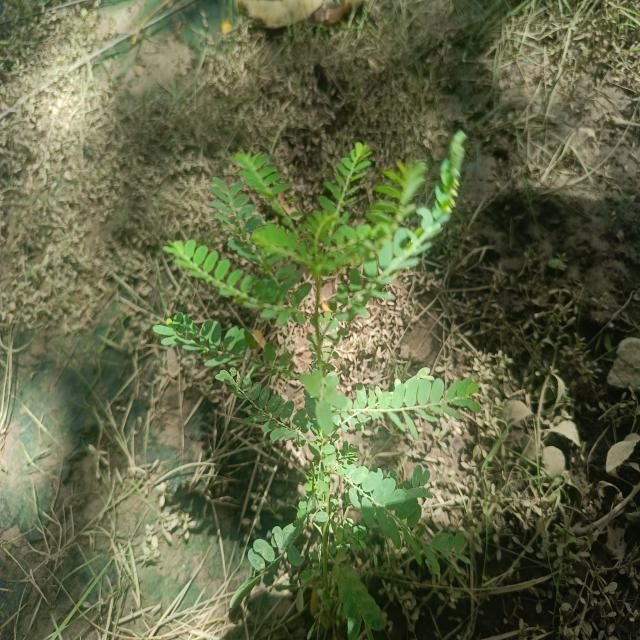weed: (142, 129, 485, 639)
